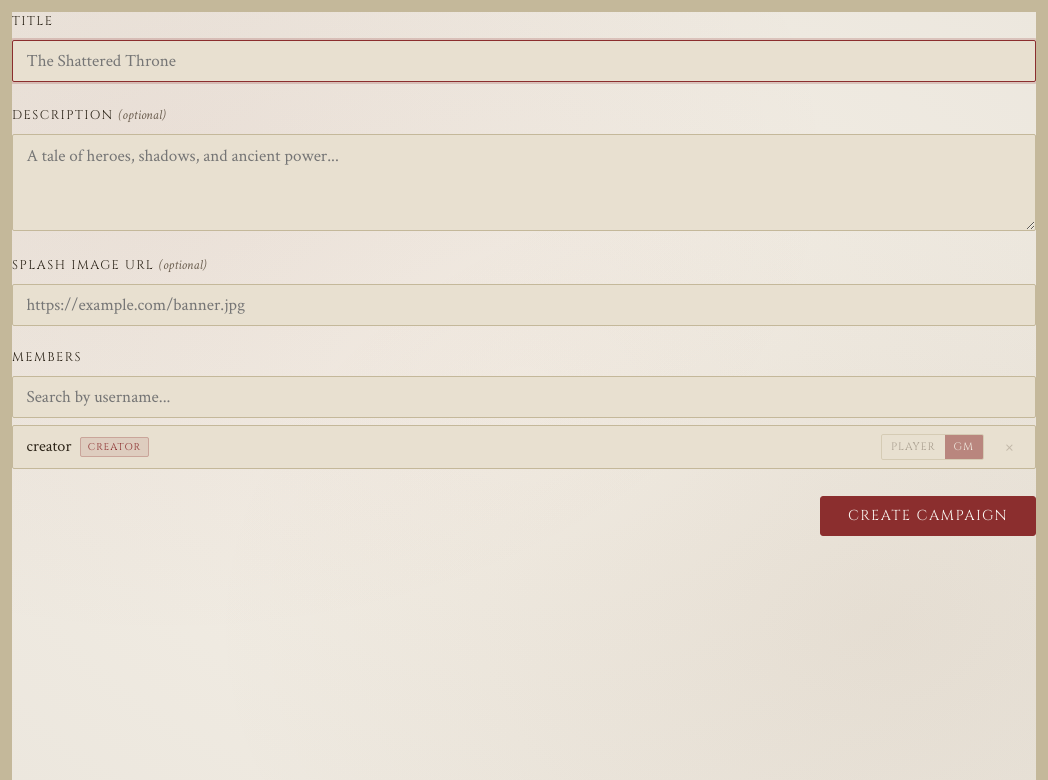
Test: NewCampaignForm › should show api error on failed submission
Type "My Campaign" into the field labelled "Title" at coordinates (524, 61), box [12,40,1036,82]
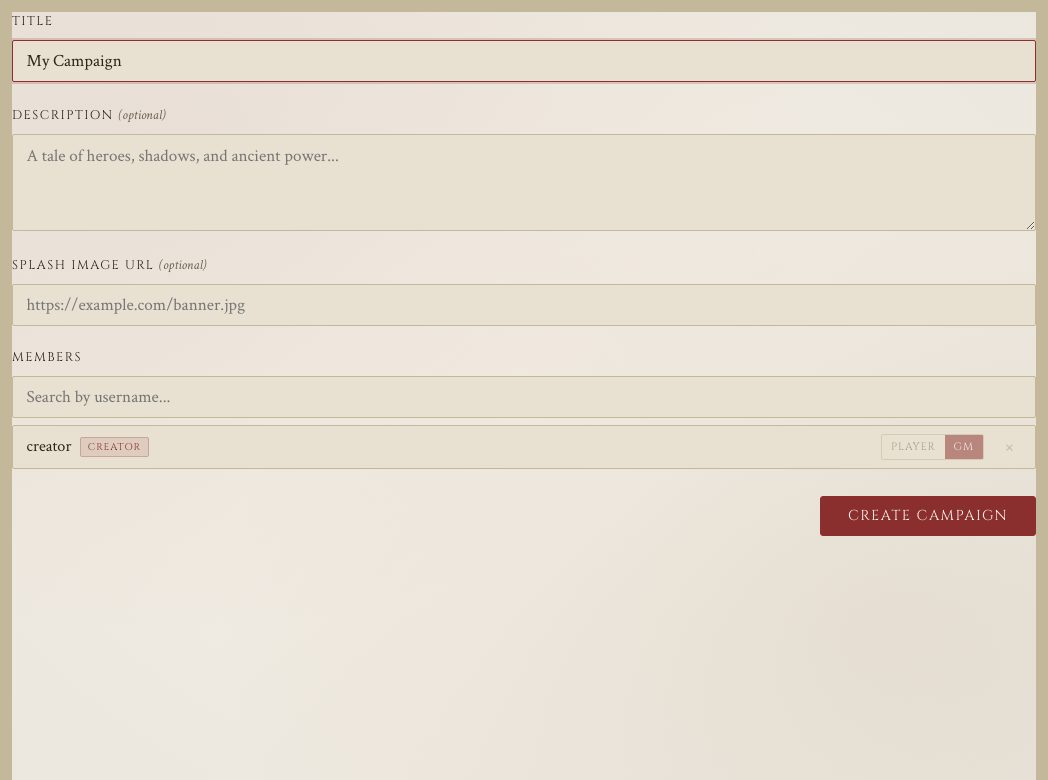
Click the button "Create Campaign" at coordinates (928, 516), box [820,496,1036,536]
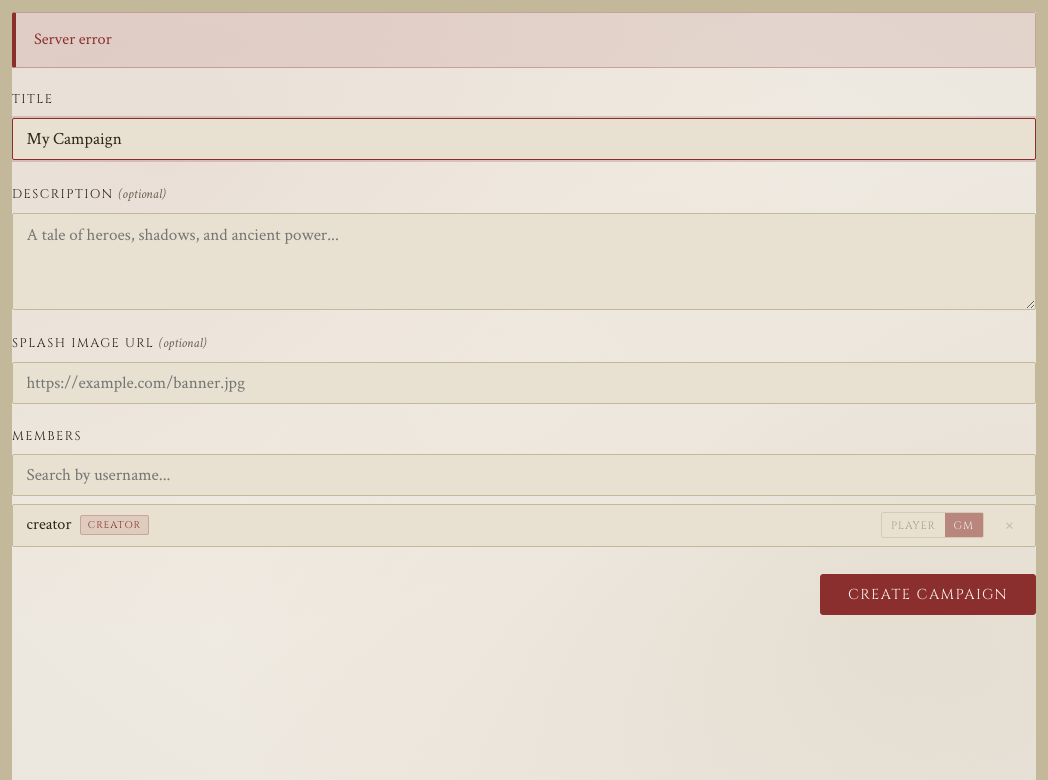
Expected: the text "Server error" is shown, [12,12,1036,68]
